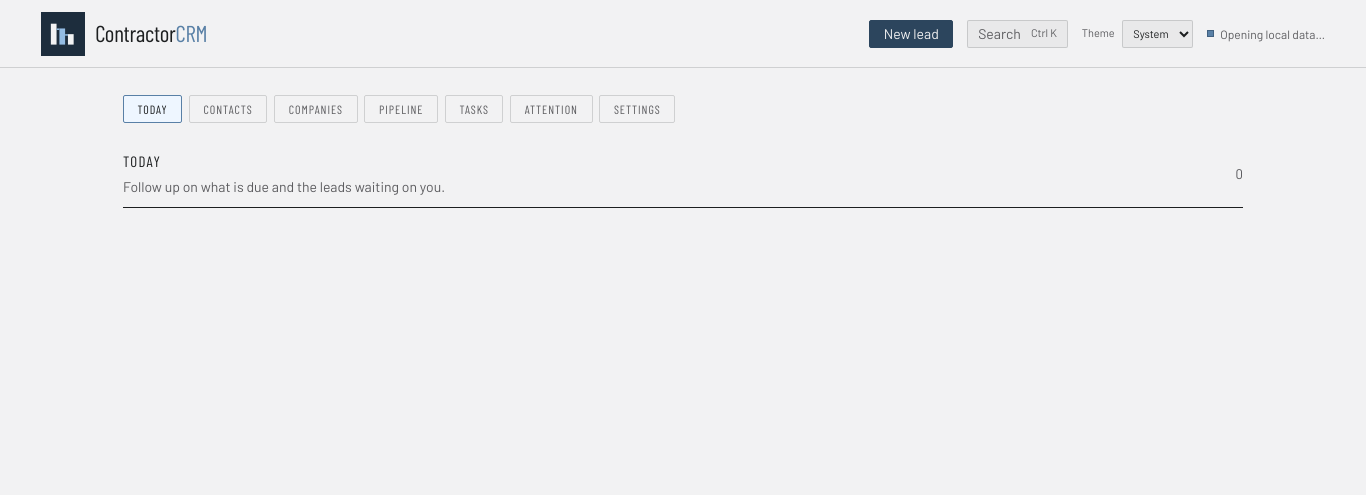
Scenario: contact list and detail › renders the last-contacted and next-task projection columns
This screenshot has width=1366, height=495.
What coordinates should you click on to do the following:
click the button "Contacts"
I would click on:
 (228, 109)
Its box is [189,95,267,123].
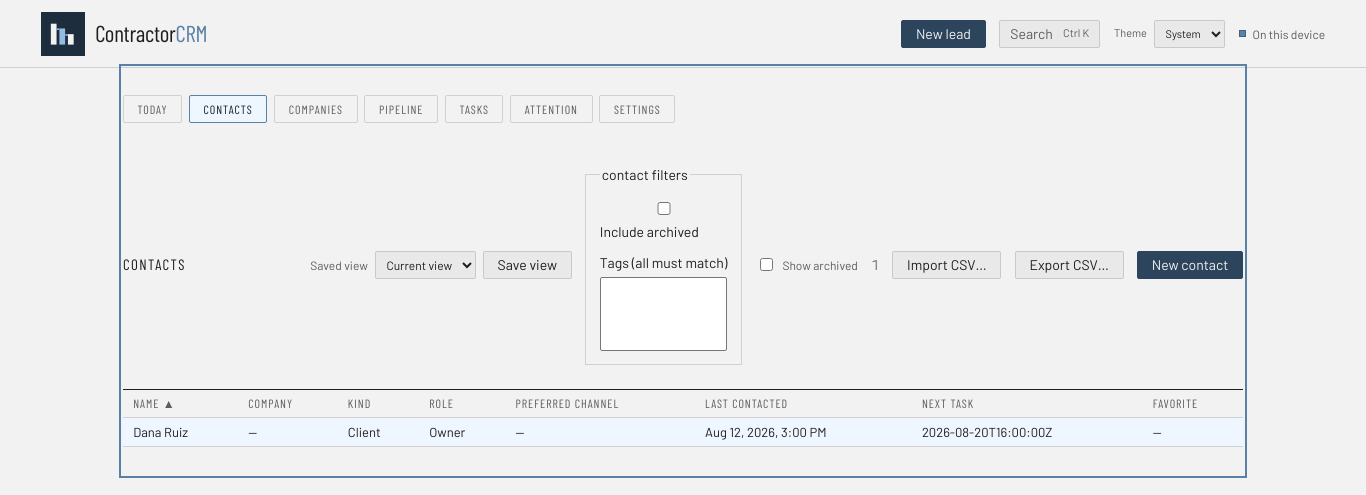
Expected: the column heading "Last contacted" is shown, [695,390,912,418]
Expected: the column heading "Next task" is shown, [912,390,1143,418]
Expected: the text "2026-08-20T16:00:00Z" is shown, [912,418,1143,446]
